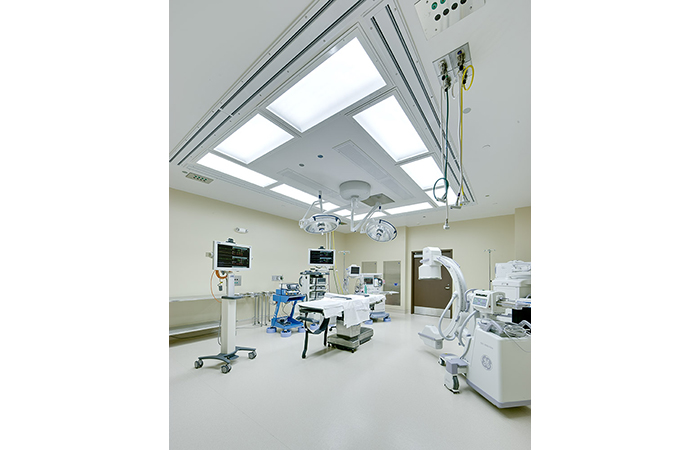bedside_monitor: (213, 242, 251, 270), (308, 249, 336, 268), (348, 264, 361, 278), (363, 276, 374, 287)
door_handle: (444, 285, 451, 291)
electrosurgical_unit: (274, 288, 303, 297)
iv_pole: (480, 244, 498, 286)
operating_bed: (296, 294, 392, 359)
surgical_light: (299, 213, 341, 236), (365, 219, 397, 242)
utility_cart: (232, 291, 261, 330), (261, 291, 275, 328)
